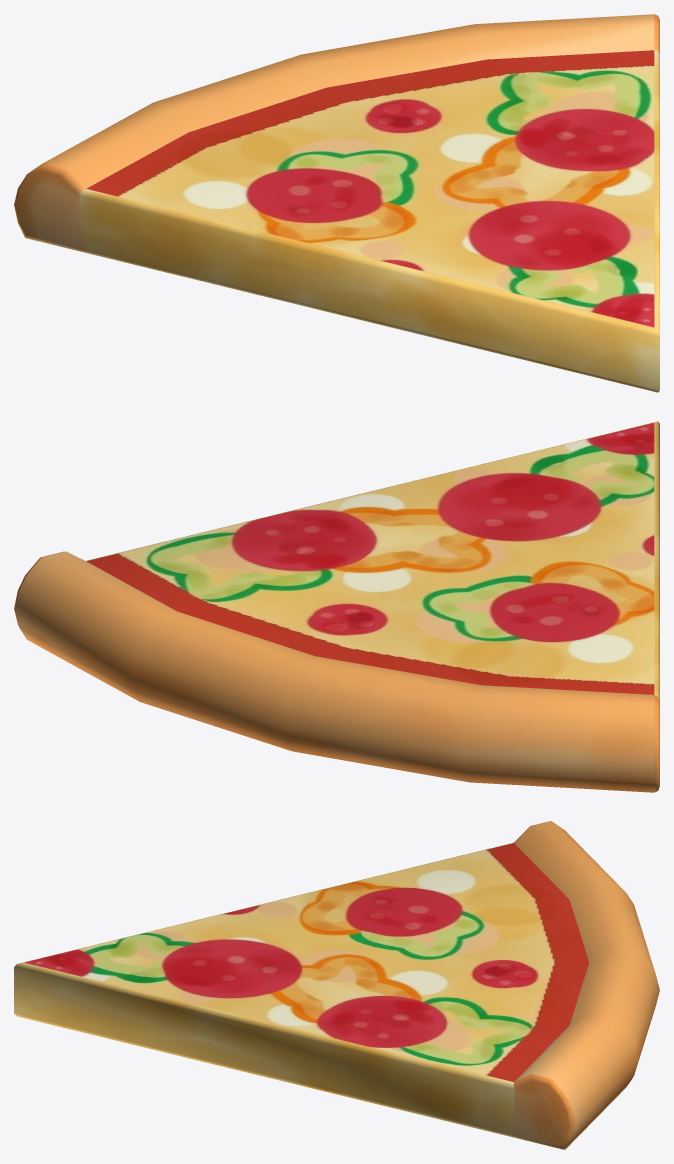
Rendered from pizza_col.fbx.
3 views of the same model, one above another, from view 1: azimuth 30°, elevation 25°; view 2: azimuth 150°, elevation 25°; view 3: azimuth 270°, elevation 25° (orthographic). The views are drawn at different scales.
Visible parts, largest first — view 1: piza; view 2: piza; view 3: piza.
Part boxes in pixels (bbox=[...]): piza: bbox=[14, 14, 659, 392]; piza: bbox=[14, 421, 659, 792]; piza: bbox=[14, 821, 659, 1149].
Size of the model in its own units: 380 by 44.27 by 382.
